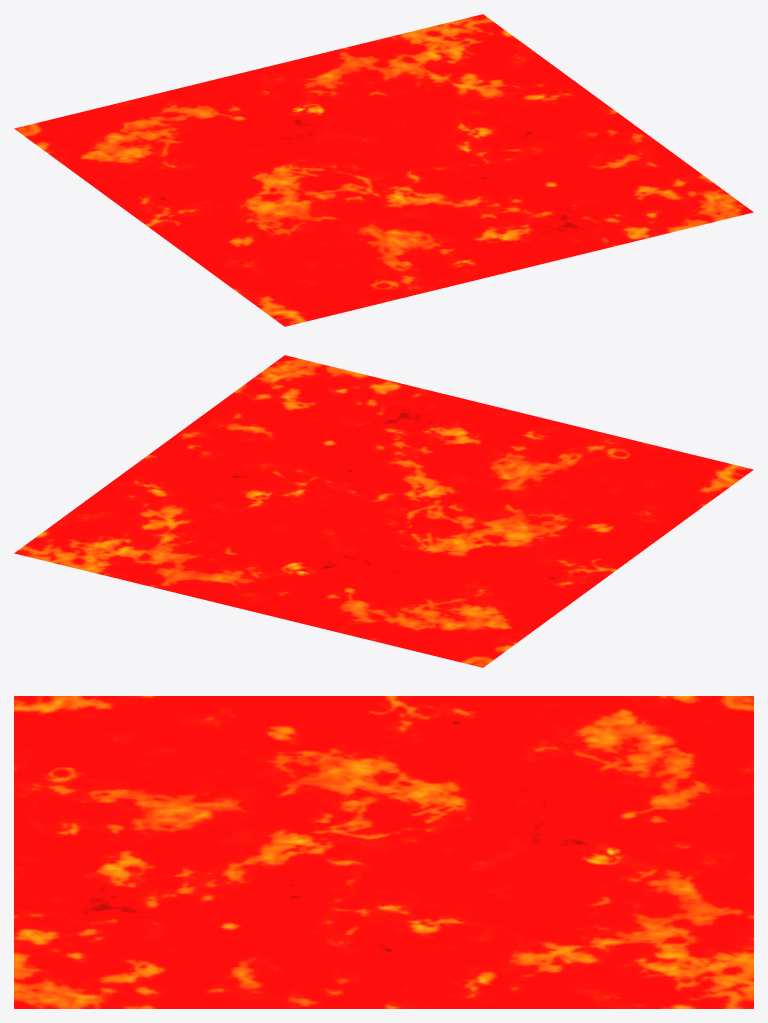
File: all_item_decal_lava.glb
The picture shows the model from 3 angles, top to bottom: view 1: azimuth 30°, elevation 25°; view 2: azimuth 150°, elevation 25°; view 3: azimuth 270°, elevation 25°; orthographic projection. The views are drawn at different scales.
Visible parts, largest first — view 1: all_item_decal_lava; view 2: all_item_decal_lava; view 3: all_item_decal_lava.
Part boxes in pixels (x1,y1,x2,y2): all_item_decal_lava: [14, 14, 753, 326]; all_item_decal_lava: [14, 355, 753, 667]; all_item_decal_lava: [14, 696, 753, 1008].
Bounding box in the file's own units: 0.4 × 3.02e-08 × 0.4.
1 material, 1 textured.
